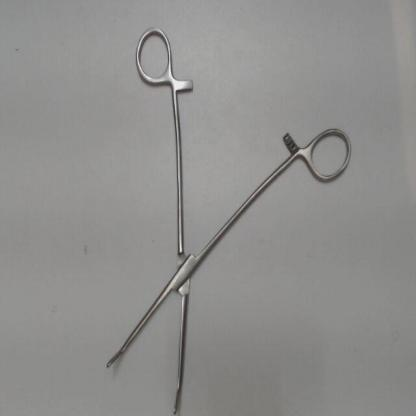Lahey Forceps: (98, 25, 356, 416)
